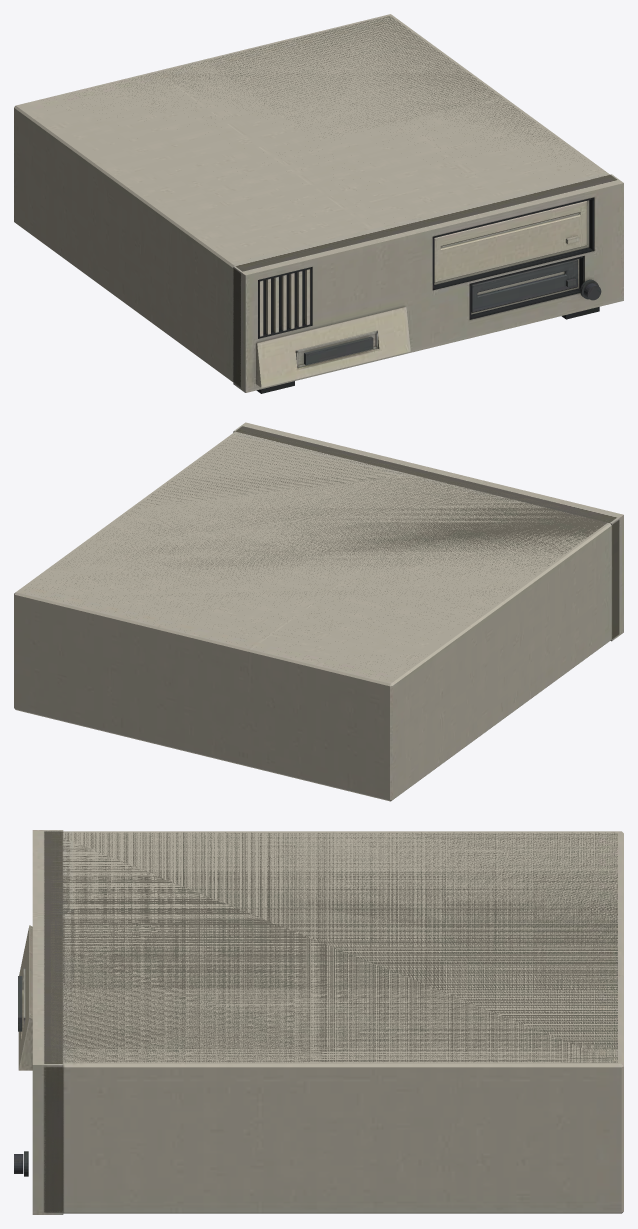
The model's file is pizzabox-d.glb.
3 renders of one model, top to bottom at view 1: azimuth 30°, elevation 25°; view 2: azimuth 150°, elevation 25°; view 3: azimuth 270°, elevation 25°, orthographic. The views are drawn at different scales.
Visible parts, largest first — view 1: case-baked; view 2: case-baked; view 3: case-baked.
Part boxes in pixels (x1,y1,x2,y2): case-baked: (14,14,623,393); case-baked: (14,422,623,801); case-baked: (14,830,623,1214).
Size of the model in its own units: 0.36 by 0.115 by 0.395.
1 material, 1 textured.
